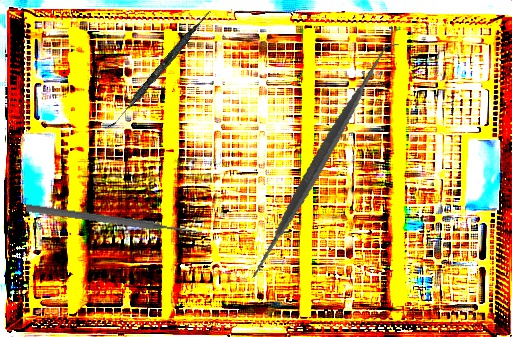Pusher: (25, 202, 203, 239)
Spatula Surgical: (206, 43, 435, 280), (108, 6, 212, 133)
